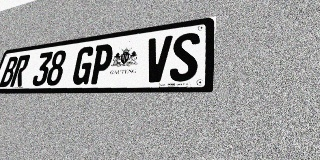3: (31, 51, 54, 86)
8: (45, 49, 68, 86)
B: (0, 56, 19, 87)
G: (71, 46, 96, 85)
P: (88, 43, 115, 84)
R: (10, 54, 31, 87)
S: (169, 32, 200, 82)
V: (143, 35, 173, 83)
